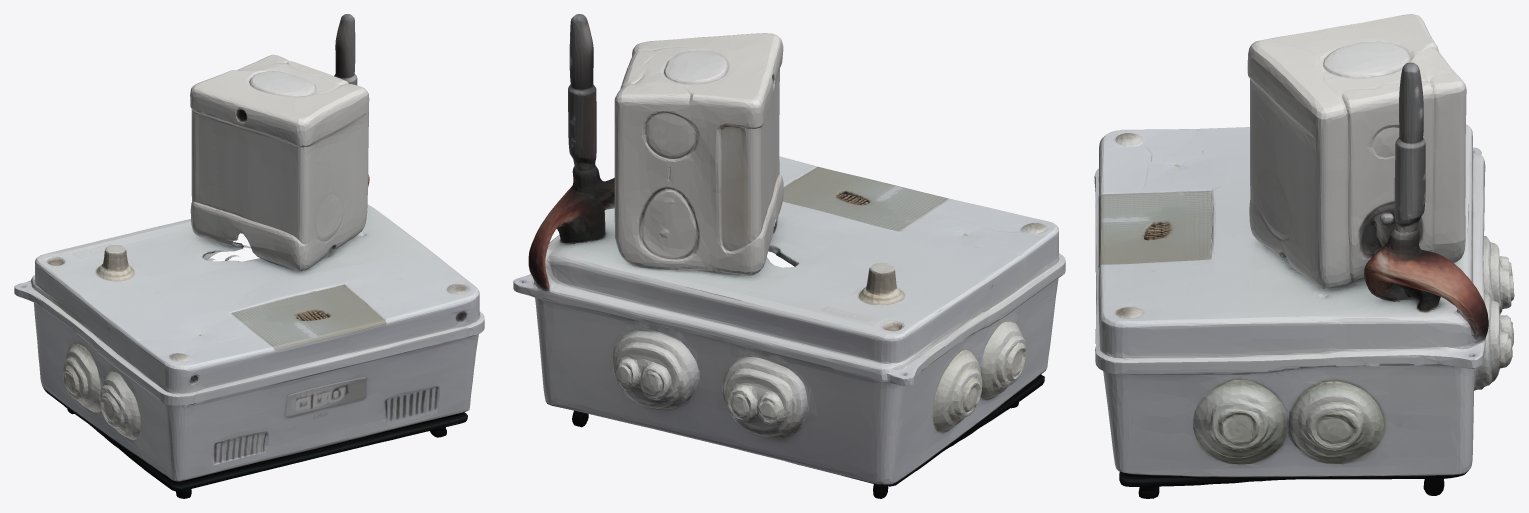
Rendered from Copilot3D-02457d73-19e3-4a42-92f9-5cb056fda238.glb.
3 renders of one model, left to right at view 1: azimuth 30°, elevation 25°; view 2: azimuth 150°, elevation 25°; view 3: azimuth 270°, elevation 25°, orthographic. The views are drawn at different scales.
Visible parts, largest first — view 1: world; view 2: world; view 3: world.
Boxes of the visible parts, x1,y1,x2,y2 form: world: (14,14,484,498); world: (513,14,1065,498); world: (1094,14,1514,498).
Size of the model in its own units: 0.9995 by 0.961 by 0.8343.
Materials: 1 (1 with a texture image).
